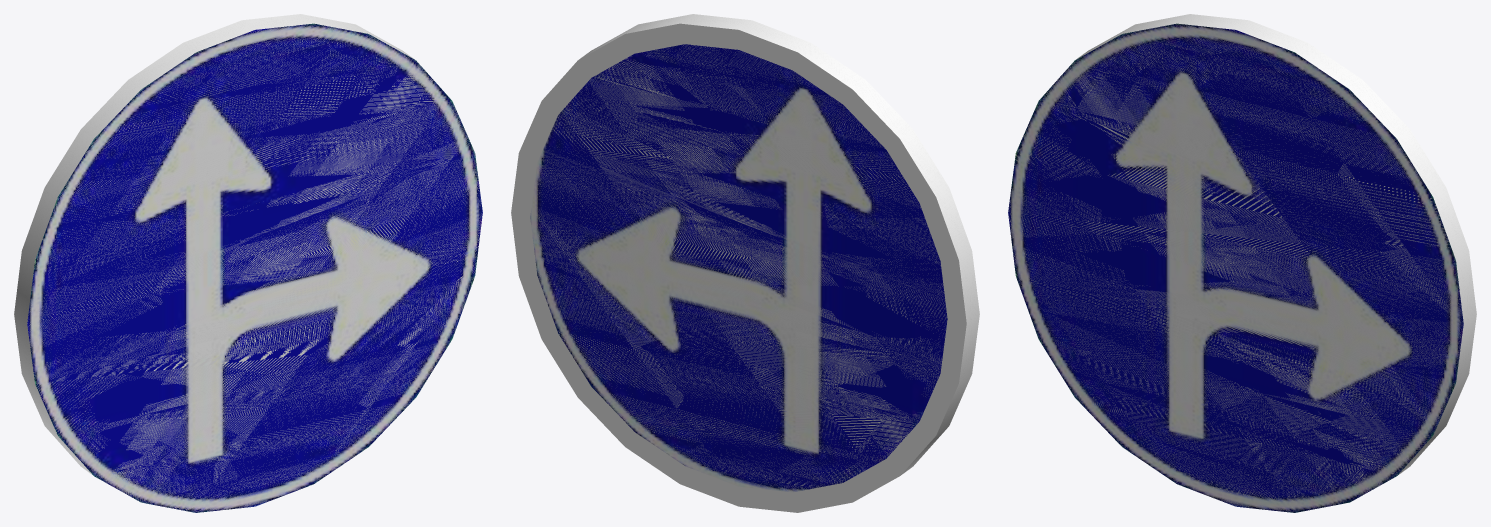
3 views of the same model, side by side, from view 1: azimuth 30°, elevation 25°; view 2: azimuth 150°, elevation 25°; view 3: azimuth 330°, elevation 25° (orthographic).
Parts seen in each view (by area): view 1: SketchUp (×2); view 2: SketchUp (×3); view 3: SketchUp (×2).
Part boxes in pixels (x1=…): SketchUp (×2): x1=14, y1=14, x2=482, y2=512; SketchUp (×3): x1=511, y1=14, x2=979, y2=512; SketchUp (×2): x1=1008, y1=14, x2=1476, y2=512.
Size of the model in its own units: 23.62 by 1.18 by 23.62.
4 materials, 1 textured.
